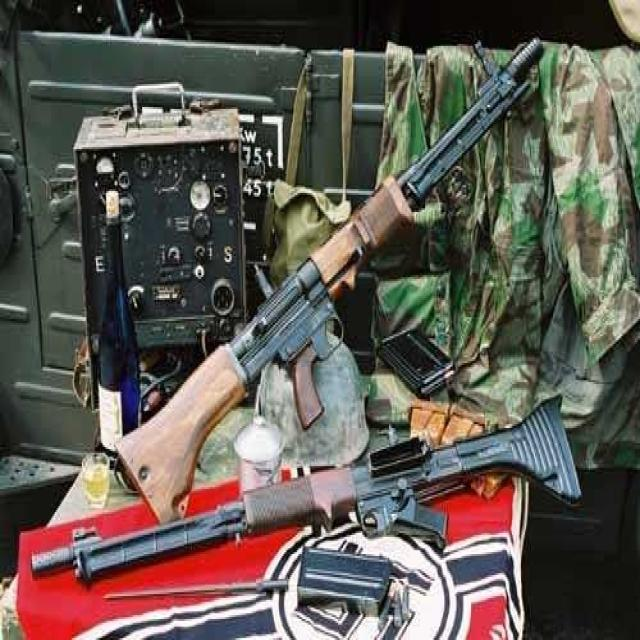heavyweapon: (120, 22, 564, 534), (35, 385, 640, 640)
